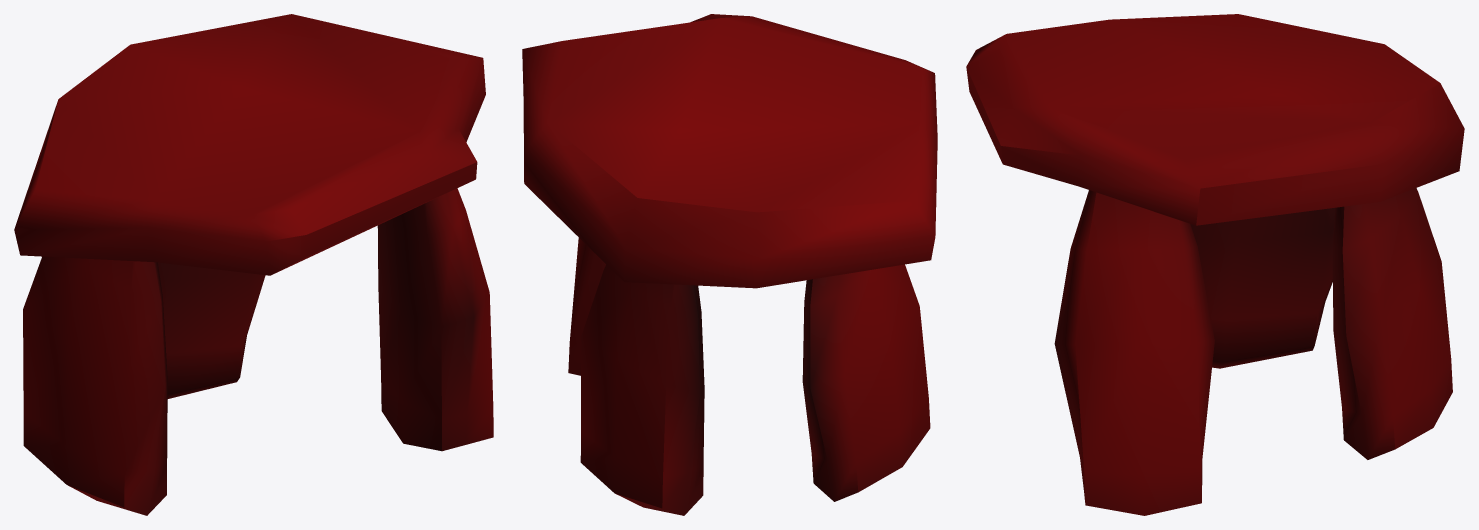
The model's file is geology-carvedstone-dolmen_v3.fbx.
The picture shows the model from 3 angles, left to right: view 1: azimuth 30°, elevation 25°; view 2: azimuth 150°, elevation 25°; view 3: azimuth 270°, elevation 25°; orthographic projection. The views are drawn at different scales.
Parts seen in each view (by area): view 1: Dolmen_v3; view 2: Dolmen_v3; view 3: Dolmen_v3.
Part boxes in pixels (x1=…): Dolmen_v3: x1=14, y1=14, x2=493, y2=515; Dolmen_v3: x1=522, y1=14, x2=937, y2=515; Dolmen_v3: x1=966, y1=14, x2=1464, y2=515.
Bounding box in the file's own units: 12.7 × 9.94 × 11.7.
